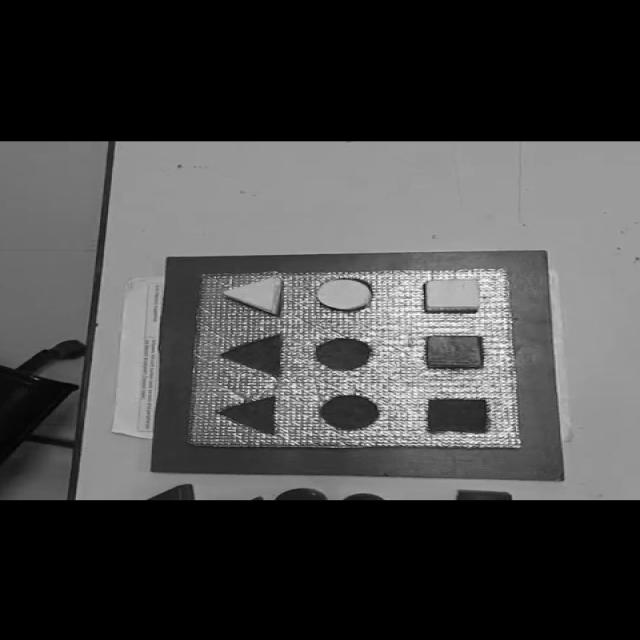bcube: (455, 488, 511, 499)
mtcircle: (319, 394, 380, 430), (315, 337, 373, 370)
mtcube: (425, 397, 492, 434)
mttriangle: (218, 334, 284, 377), (216, 396, 278, 434)
rcube: (425, 334, 485, 368)
wb: (190, 268, 521, 448)
ycircle: (314, 278, 372, 313)
ycube: (423, 277, 480, 312)
ytriangle: (220, 276, 284, 316)
